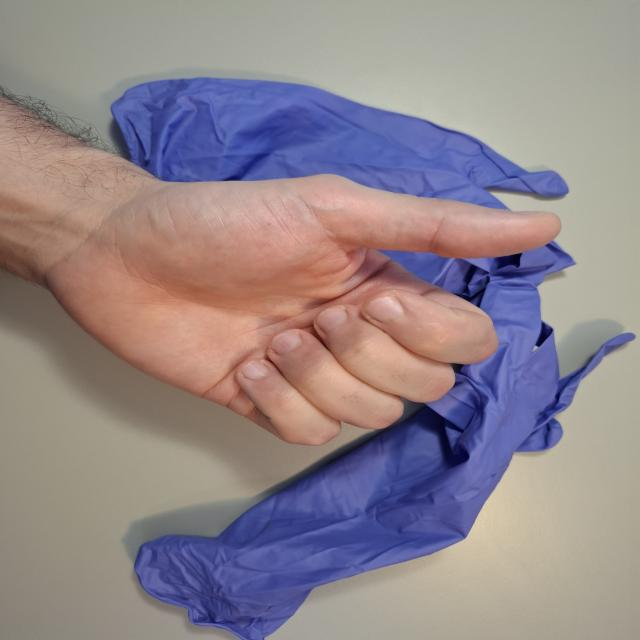glove_off: (29, 167, 567, 450)
